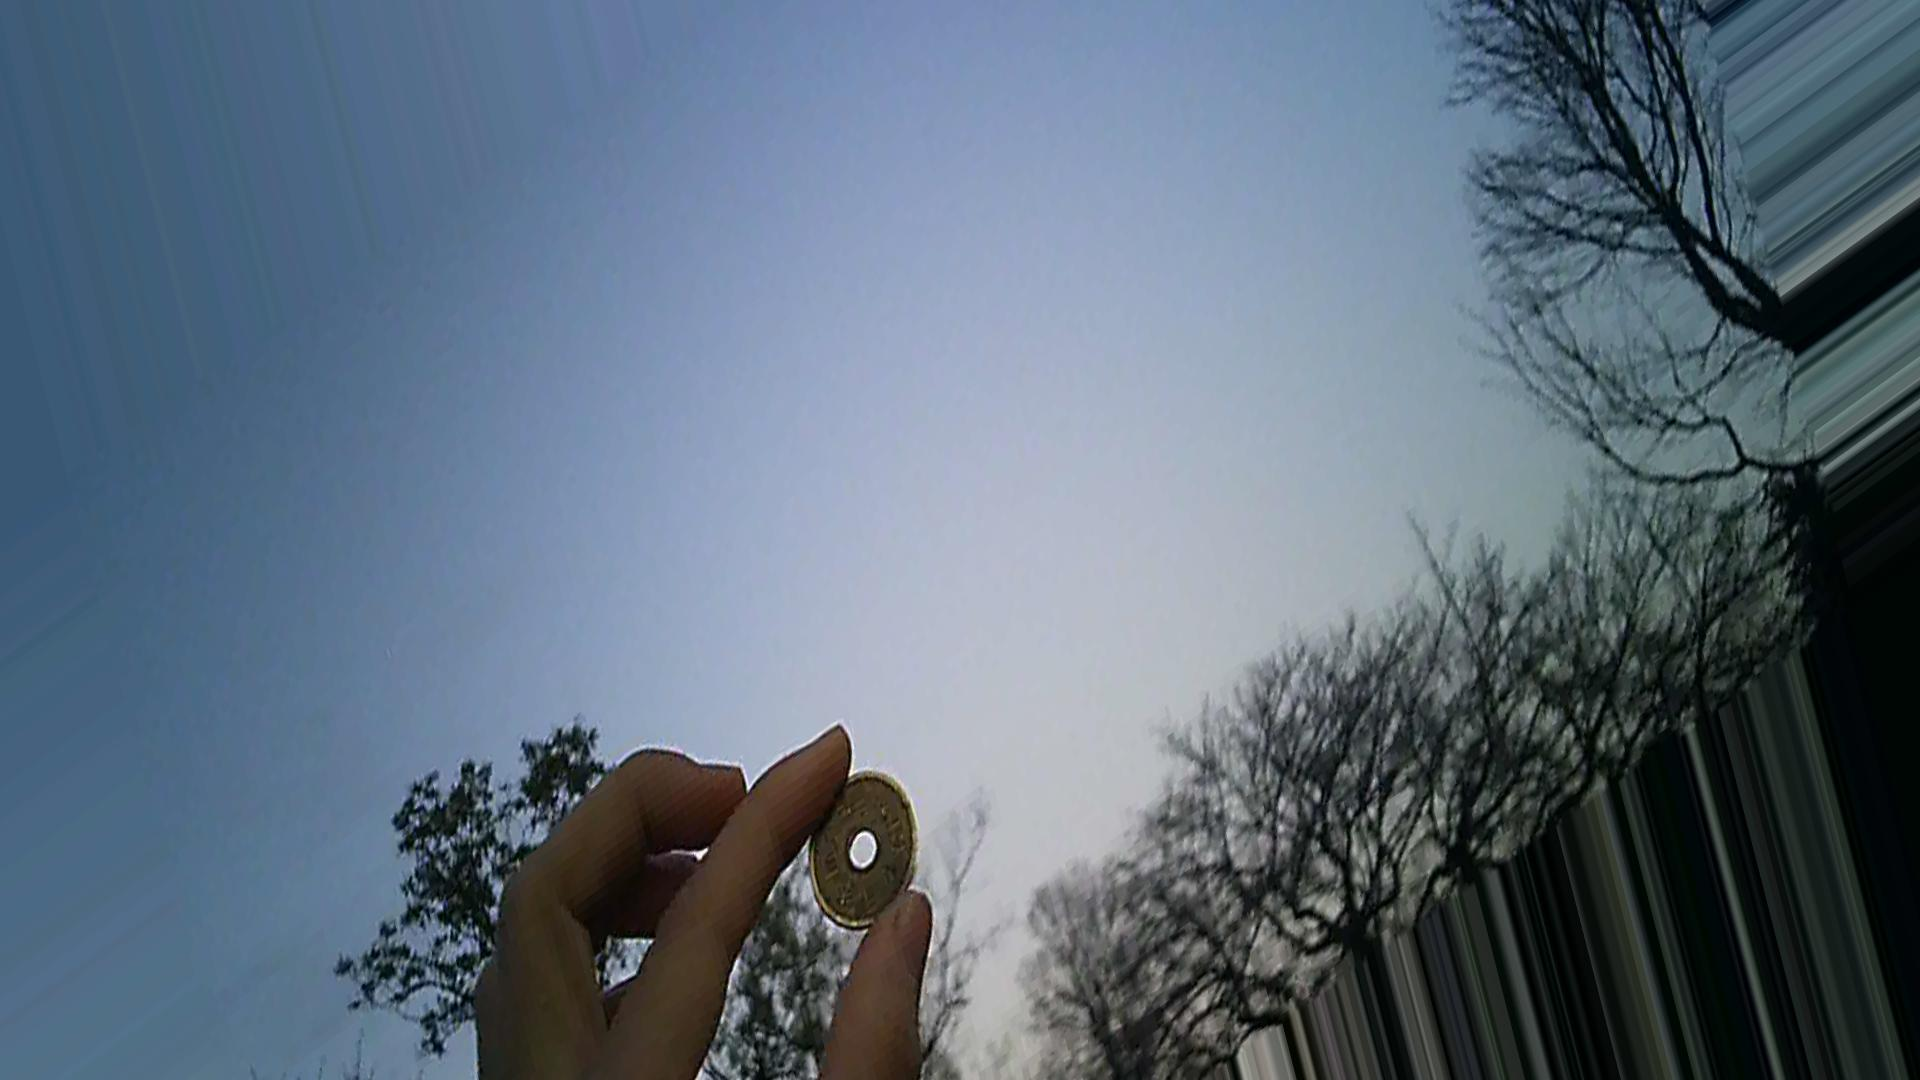5 Yen: (802, 760, 916, 927)
